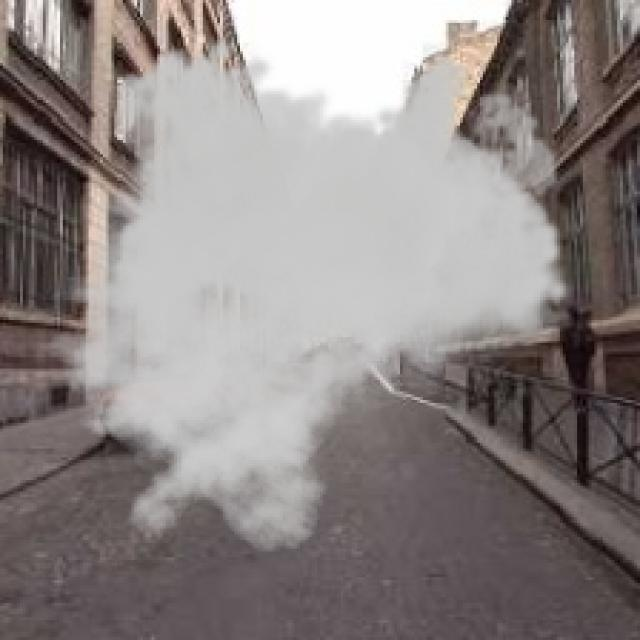Smoke: (19, 34, 574, 554)
